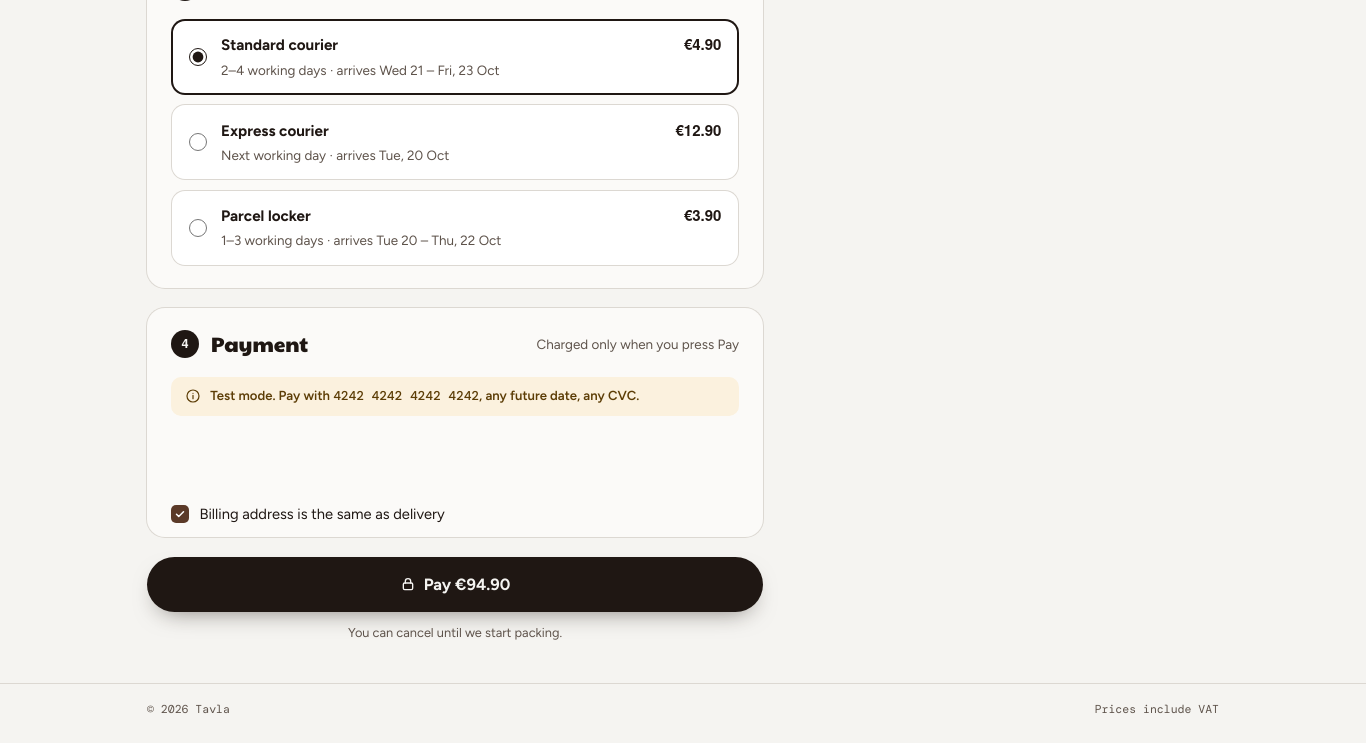
Test: CheckoutPage › lists every field to fix at the top, marks them, and sends nothing
(page scrolled)
Check: the radio button labelled "Standard courier" is shown, box [189,48,207,66]
€90 is under the free-shipping line, so standard costs €4.90
Click the button "Pay €94.90".
click(455, 584)  # box [147,557,763,612]
(page scrolled)
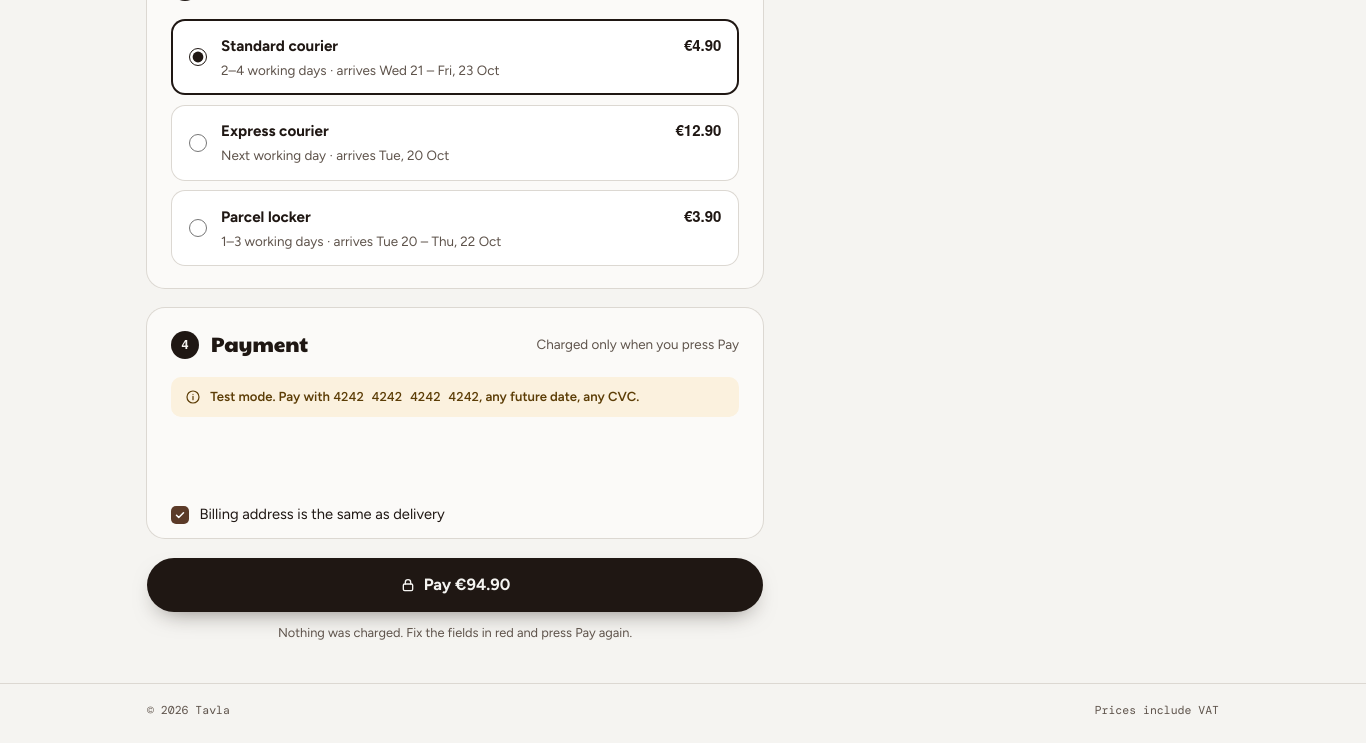
Check: the text "Nothing was charged. Fix the fields in red and press Pay again." is shown, box [278,625,632,640]
